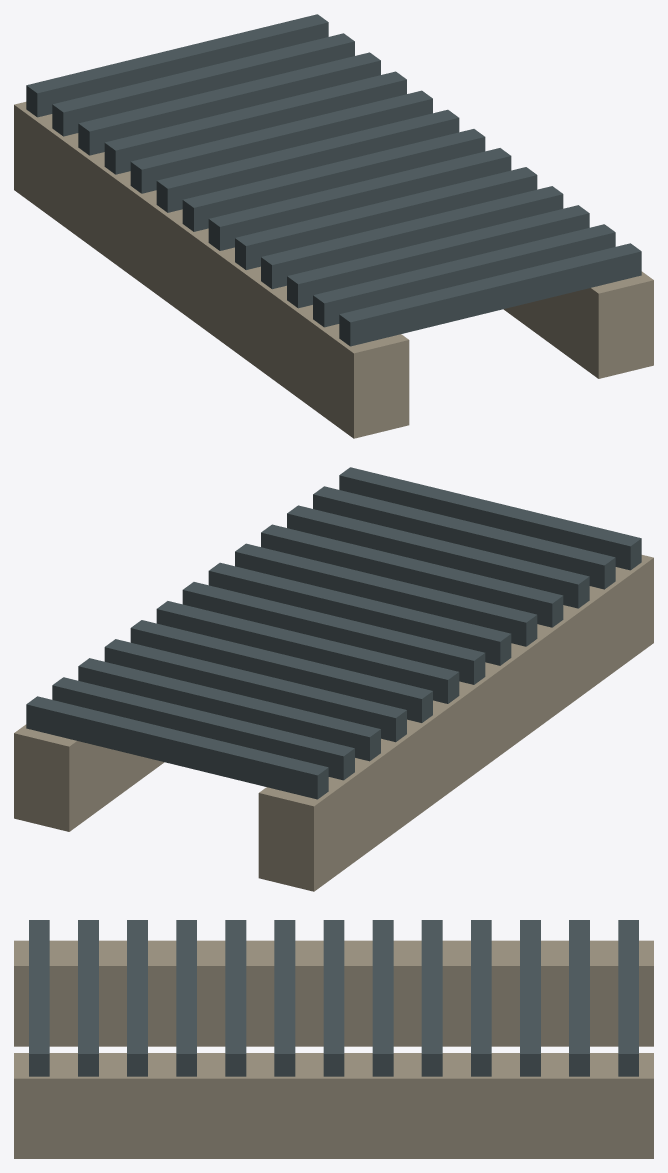
Rendered from 097_storm_drain_grate.glb.
3 views of the same model, one above another, from view 1: azimuth 30°, elevation 25°; view 2: azimuth 150°, elevation 25°; view 3: azimuth 270°, elevation 25° (orthographic). The views are drawn at different scales.
Visible parts, largest first — view 1: Storm drain grate; view 2: Storm drain grate; view 3: Storm drain grate.
Boxes of the visible parts, x1,y1,x2,y2 form: Storm drain grate: (14, 14, 653, 438); Storm drain grate: (14, 467, 653, 891); Storm drain grate: (14, 920, 653, 1158).
Bounding box in the file's own units: 1.03 × 0.359 × 2.02.
